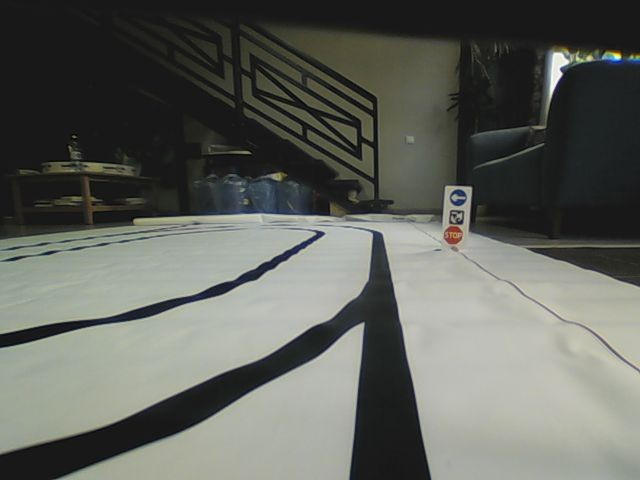Stop: (444, 226, 463, 246)
